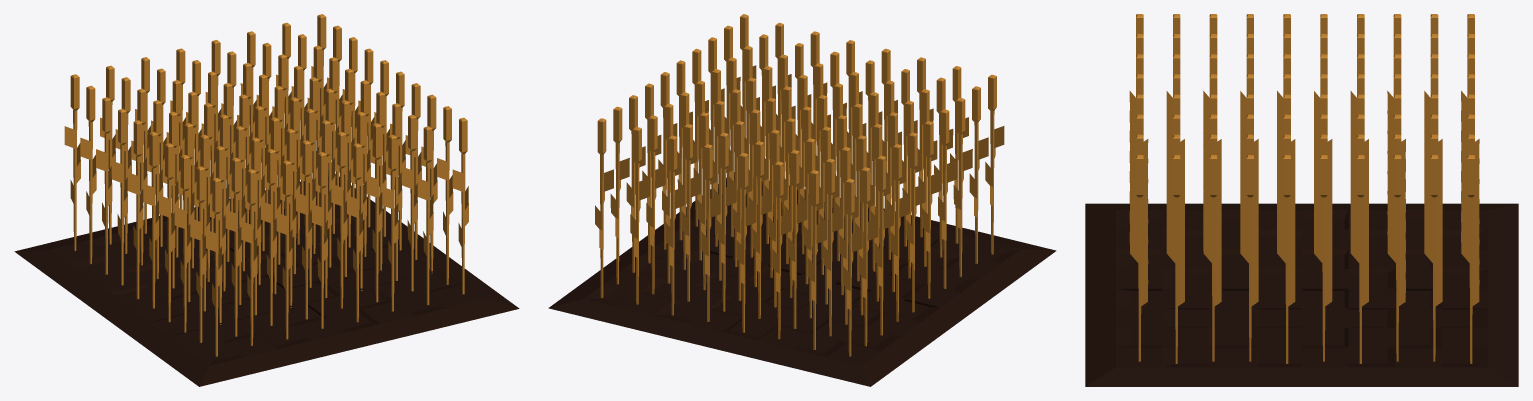
The model's file is Грядка с пшеницей.obj.
The picture shows the model from 3 angles, left to right: view 1: azimuth 30°, elevation 25°; view 2: azimuth 150°, elevation 25°; view 3: azimuth 270°, elevation 25°; orthographic projection. The views are drawn at different scales.
Visible parts, largest first — view 1: Cube, Plane; view 2: Cube, Plane; view 3: Plane, Cube.
Boxes of the visible parts, <box> form: Cube: <box>64,14,468,356</box>; Plane: <box>14,174,519,386</box>; Cube: <box>595,14,1004,356</box>; Plane: <box>548,172,1056,386</box>; Plane: <box>1085,203,1518,386</box>; Cube: <box>1129,14,1479,363</box>.
Bounding box in the file's own units: 2 × 1.11 × 2.
